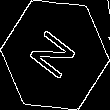N_SE: (26, 24, 84, 86)
